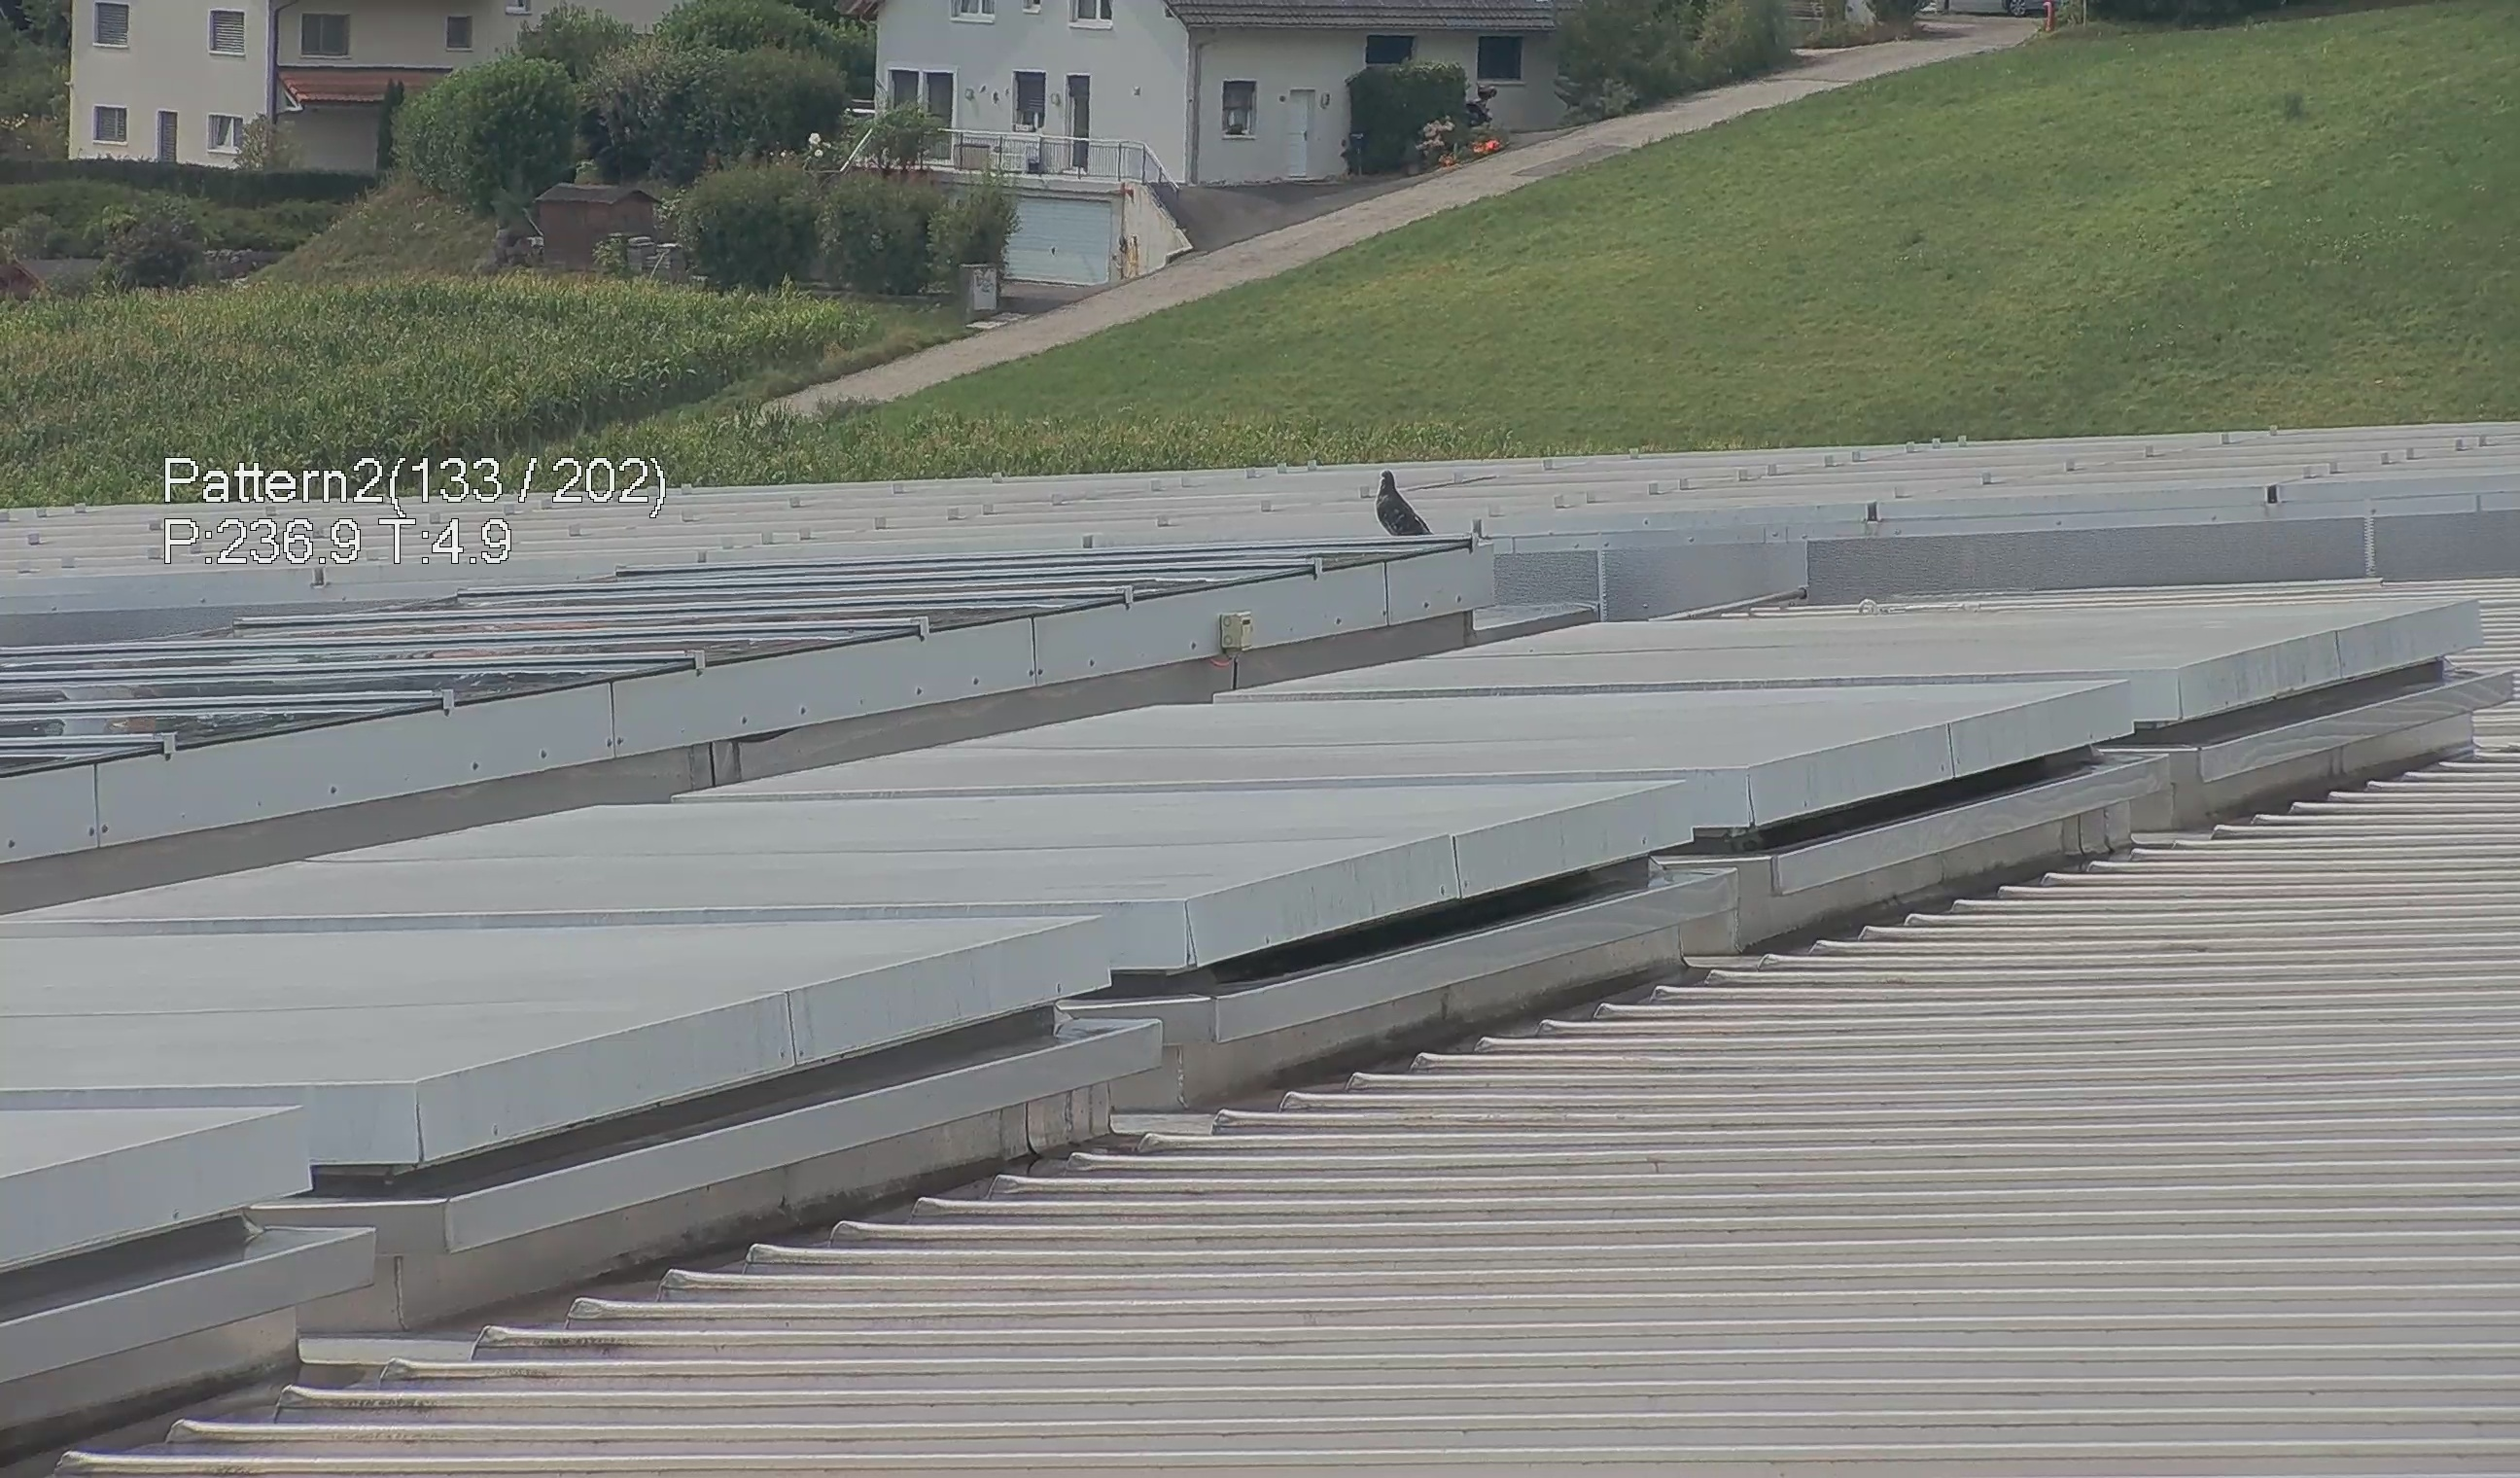Pigeon: (1366, 456, 1467, 551)
